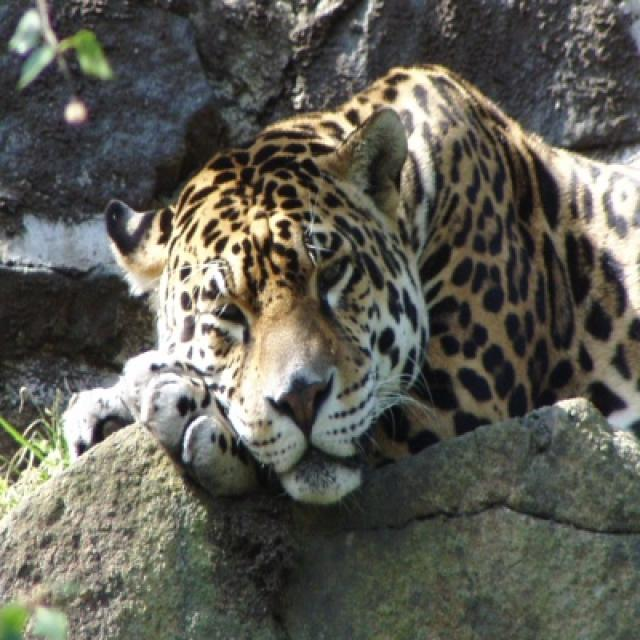Jaguar: (58, 67, 638, 510)
